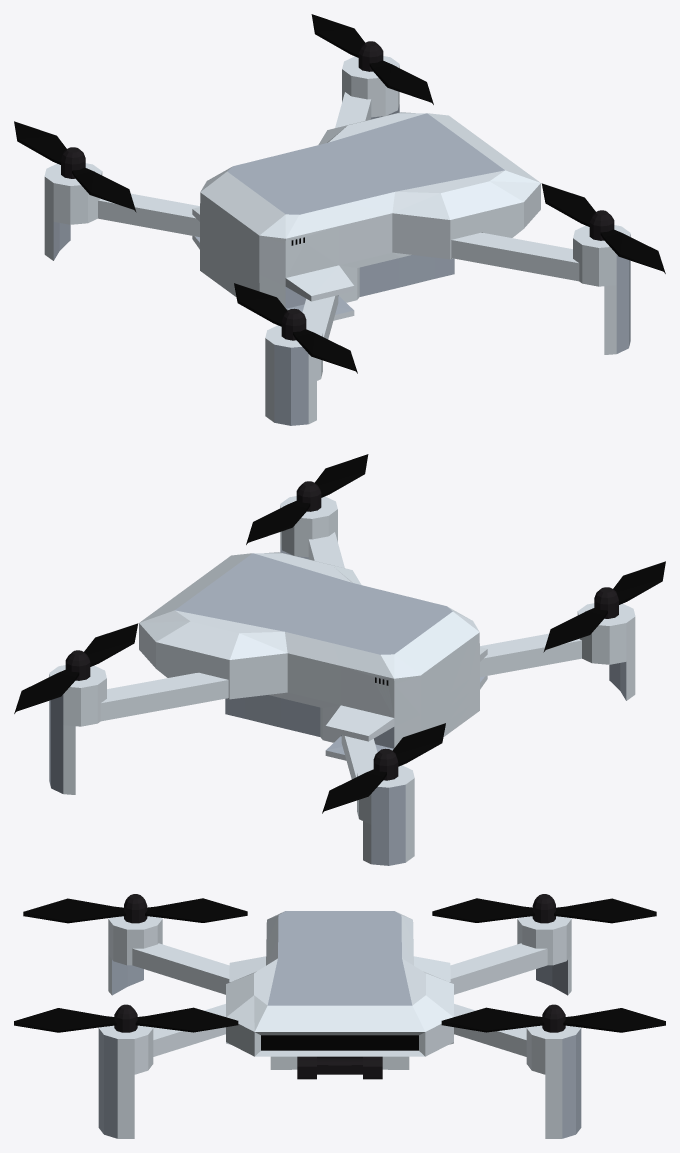
Rendered from drone.glb.
3 renders of one model, top to bottom at view 1: azimuth 30°, elevation 25°; view 2: azimuth 150°, elevation 25°; view 3: azimuth 270°, elevation 25°, orthographic. The views are drawn at different scales.
Visible parts, largest first — view 1: Base, Handle2, Handle1, Propeller2, Propeller4, Propeller3, Propeller1; view 2: Base, Handle2, Handle1, Propeller4, Propeller2, Propeller1, Propeller3; view 3: Base, Handle1, Handle2, Propeller2, Propeller4, Propeller1, Propeller3.
Part boxes in pixels (box(x1,y1,x2,y2)): Base: box(192, 112, 540, 320); Handle2: box(44, 163, 338, 425); Handle1: box(335, 56, 630, 354); Propeller2: box(234, 283, 357, 373); Propeller4: box(14, 121, 136, 212); Propeller3: box(311, 14, 433, 104); Propeller1: box(541, 183, 665, 273); Base: box(139, 552, 487, 760); Handle2: box(341, 603, 635, 865); Handle1: box(49, 496, 344, 794); Propeller4: box(322, 723, 445, 813); Propeller2: box(543, 561, 665, 652); Propeller1: box(246, 454, 368, 544); Propeller3: box(14, 623, 138, 713); Base: box(226, 911, 453, 1079); Handle1: box(98, 1004, 581, 1138); Handle2: box(108, 916, 571, 995); Propeller2: box(23, 894, 247, 923); Propeller4: box(432, 894, 656, 923); Propeller1: box(14, 1004, 238, 1032); Propeller3: box(441, 1004, 665, 1032).
Bounding box in the file's own units: 2.48 × 0.88 × 4.3.
Materials: 1 (1 with a texture image).
